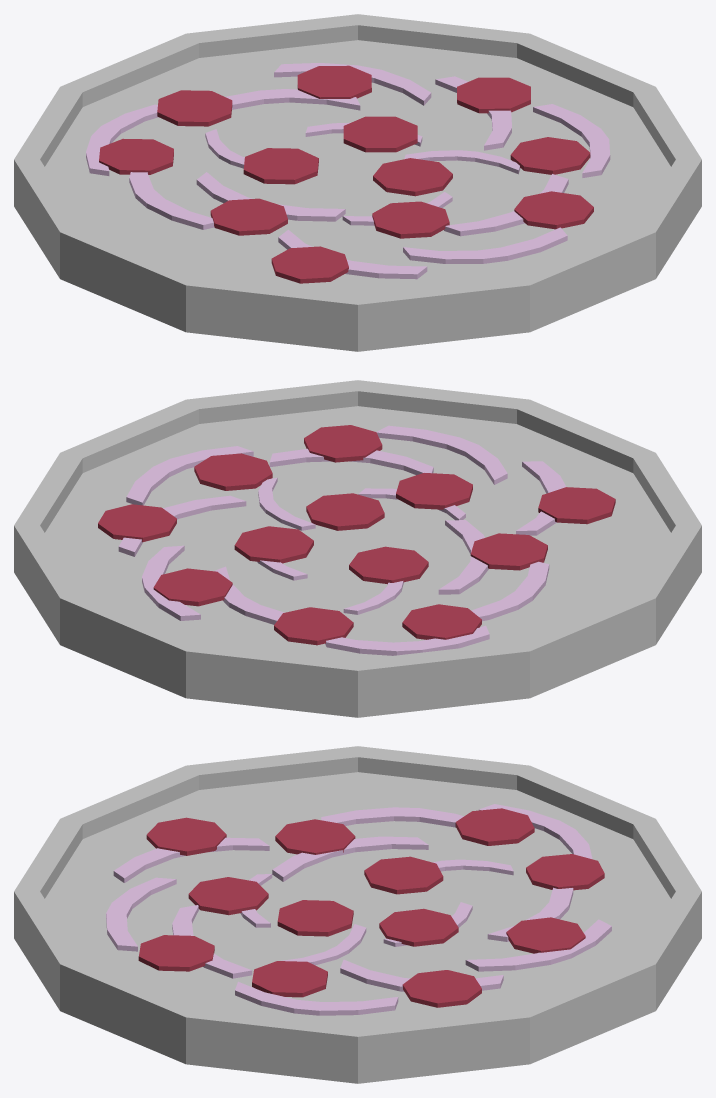
Rendered from CookedOnionNPepperoni.fbx.
3 views of the same model, one above another, from view 1: azimuth 30°, elevation 25°; view 2: azimuth 150°, elevation 25°; view 3: azimuth 270°, elevation 25° (orthographic).
Visible parts, largest first — view 1: PizzaBase, PepperoniCut, Onions; view 2: PizzaBase, PepperoniCut, Onions; view 3: PizzaBase, PepperoniCut, Onions.
Part boxes in pixels (x1=…): PizzaBase: x1=14, y1=14, x2=701, y2=351; PepperoniCut: x1=99, y1=65, x2=593, y2=283; Onions: x1=86, y1=63, x2=610, y2=279; PizzaBase: x1=14, y1=380, x2=701, y2=717; PepperoniCut: x1=98, y1=425, x2=615, y2=645; Onions: x1=118, y1=425, x2=566, y2=655; PizzaBase: x1=14, y1=746, x2=701, y2=1083; PepperoniCut: x1=138, y1=808, x2=604, y2=1007; Onions: x1=106, y1=804, x2=611, y2=1015.
Size of the model in its own units: 200 by 15.07 by 200.
